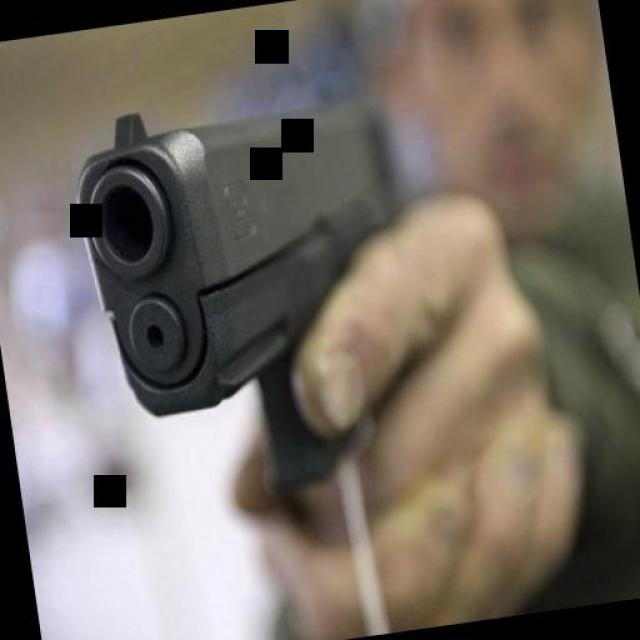gun: (60, 72, 429, 510)
